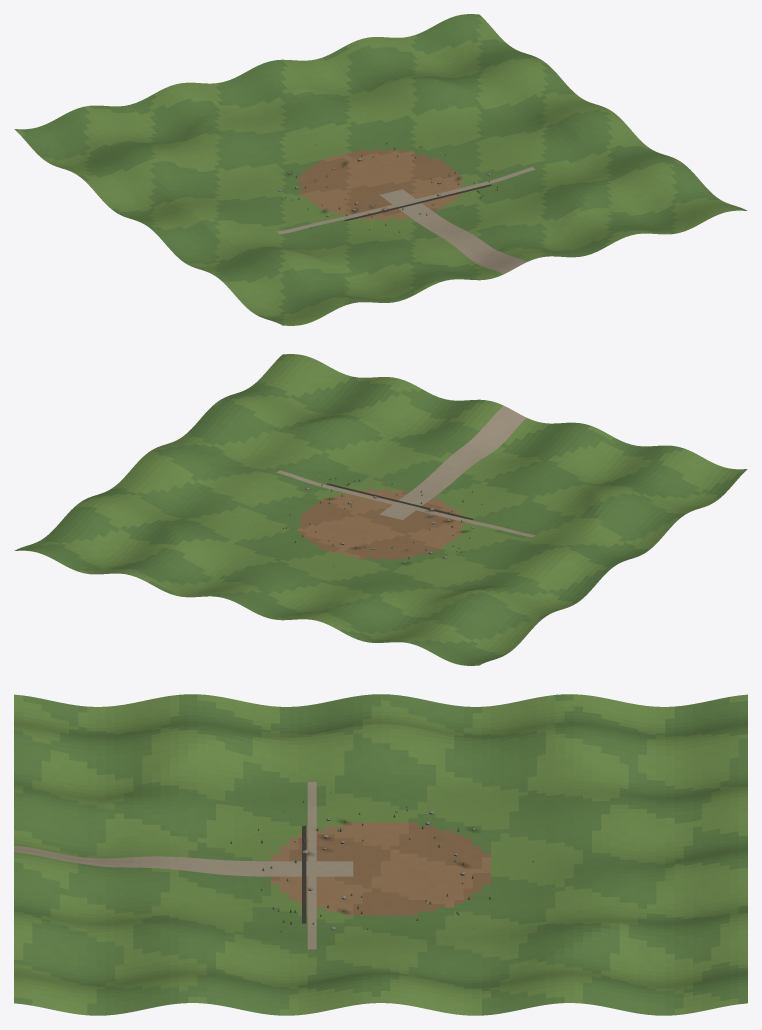
The model's file is courtyard-ground.glb.
3 views of the same model, one above another, from view 1: azimuth 30°, elevation 25°; view 2: azimuth 150°, elevation 25°; view 3: azimuth 270°, elevation 25° (orthographic). The views are drawn at different scales.
Parts seen in each view (by area): view 1: courtyard-ground; view 2: courtyard-ground; view 3: courtyard-ground.
Boxes of the visible parts, x1,y1,x2,y2 form: courtyard-ground: (14, 14, 747, 325); courtyard-ground: (14, 354, 747, 665); courtyard-ground: (14, 694, 747, 1015).
Bounding box in the file's own units: 52 × 2.18 × 52.
